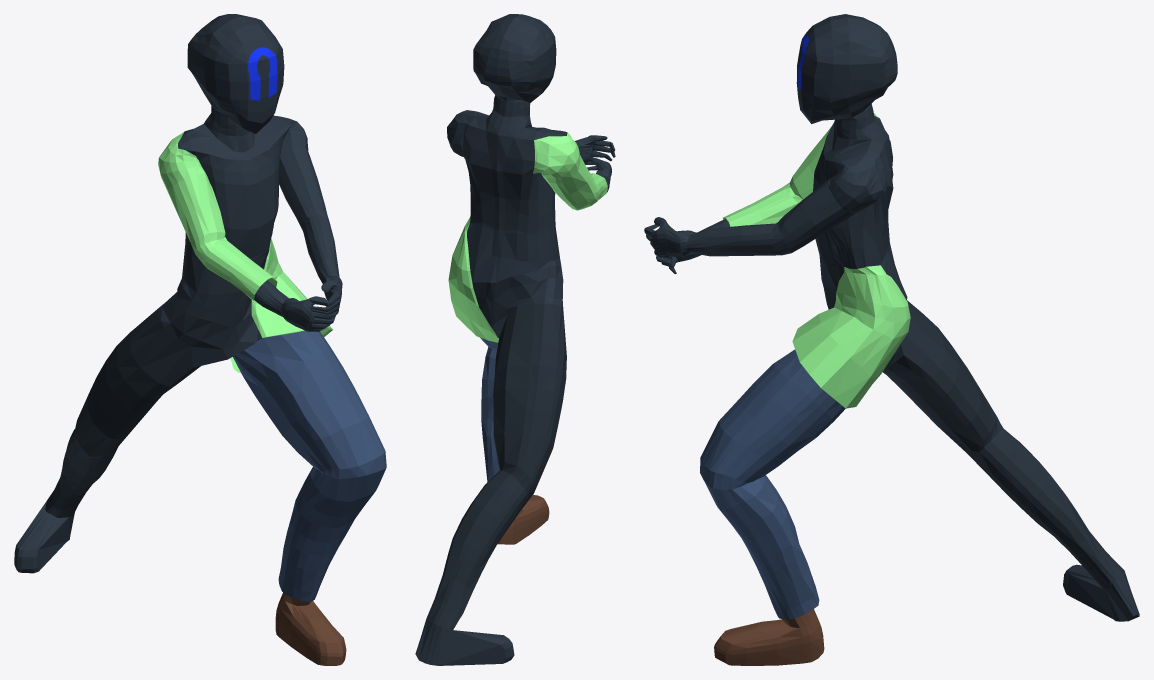
File: Mar_WB_000015.obj
The picture shows the model from 3 angles, left to right: view 1: azimuth 30°, elevation 25°; view 2: azimuth 150°, elevation 25°; view 3: azimuth 270°, elevation 25°; orthographic projection. The views are drawn at different scales.
Parts seen in each view (by area): view 1: Cube.000_Cube.001; view 2: Cube.000_Cube.001; view 3: Cube.000_Cube.001.
Part boxes in pixels (left/top/right/bottom): Cube.000_Cube.001: left=14, top=14, right=386, bottom=665; Cube.000_Cube.001: left=415, top=14, right=615, bottom=665; Cube.000_Cube.001: left=644, top=14, right=1139, bottom=665.
Size of the model in its own units: 1.16 by 3.48 by 2.5.
